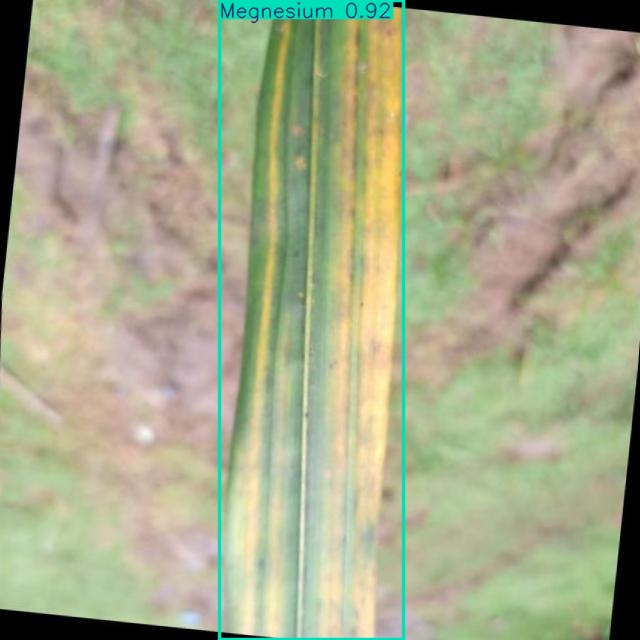Megnesium: (220, 0, 403, 639)
